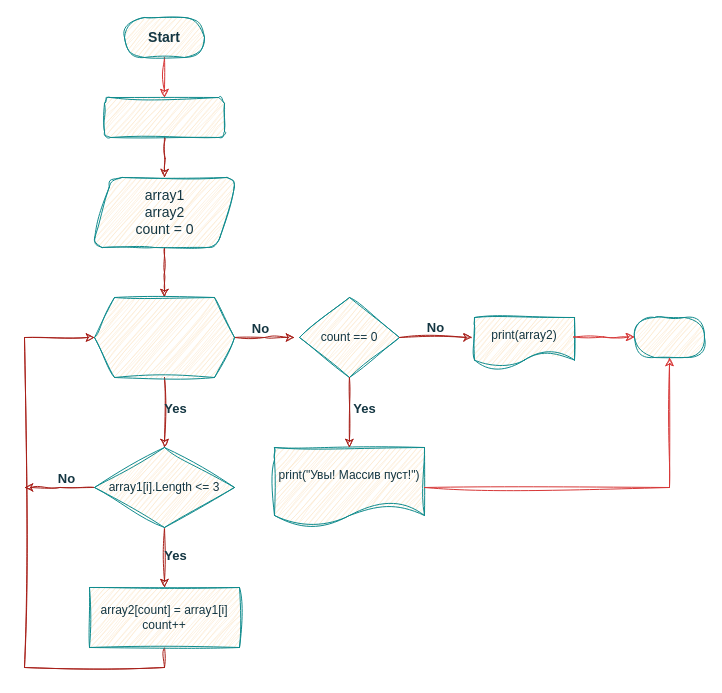
Image size: 722x693. Some labels were removed from this diagram. The shapes that lost their labels are listed below. From the top down, each one's centre as x and y in pixels, then its label:
At [164,117]: "CountArray".
At [164,337]: "i = 0, i < array1.Length, i++".
At [669,337]: "End".
